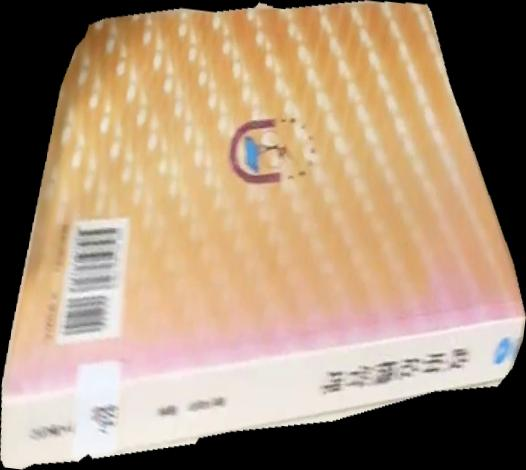flat: (1, 1, 526, 470)
